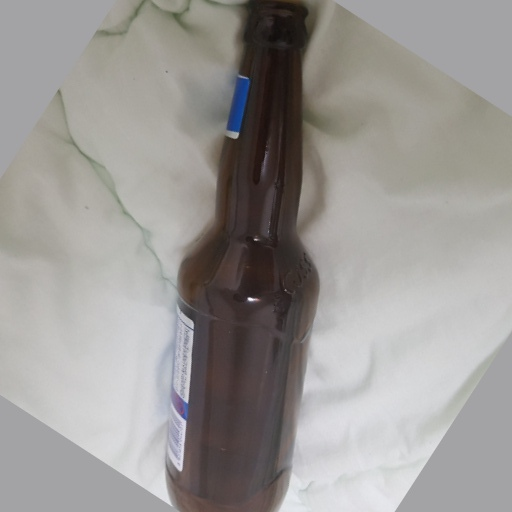Glass_1: (157, 1, 321, 512)
